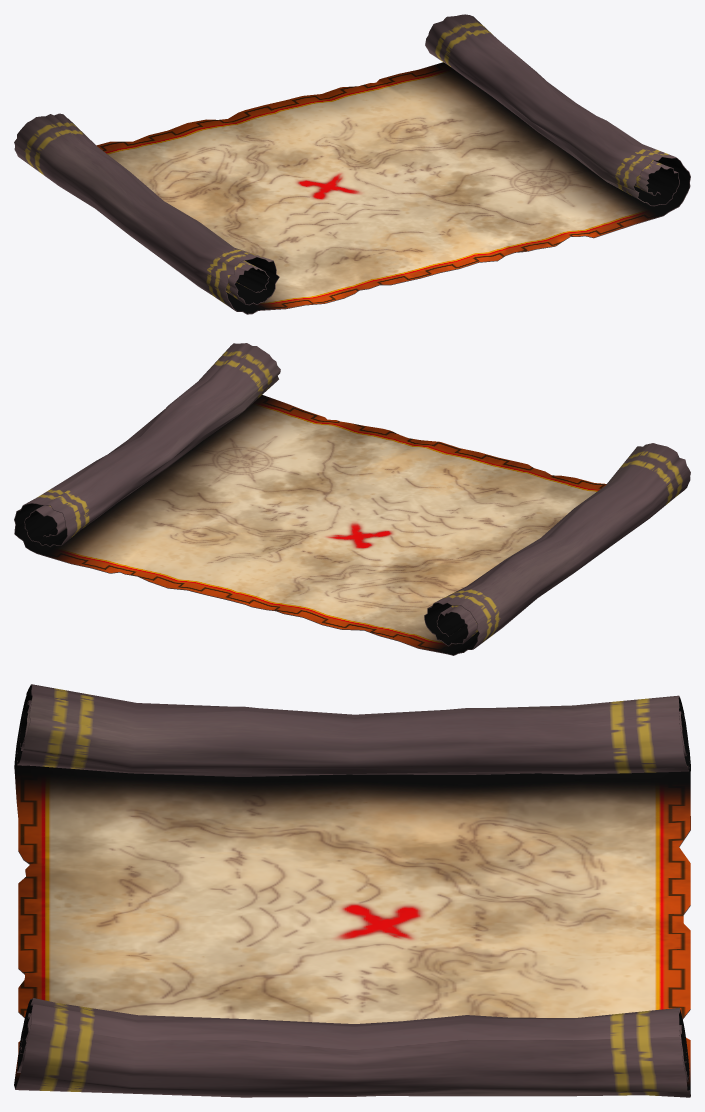
The model's file is sb_obj_indoor008_Paperwork02.fbx.
3 views of the same model, one above another, from view 1: azimuth 30°, elevation 25°; view 2: azimuth 150°, elevation 25°; view 3: azimuth 270°, elevation 25° (orthographic). The views are drawn at different scales.
Parts seen in each view (by area): view 1: map; view 2: map; view 3: map.
Boxes of the visible parts, left/top/right/bottom form: map: left=14, top=14, right=690, bottom=314; map: left=14, top=343, right=690, bottom=655; map: left=14, top=684, right=690, bottom=1097.
Size of the model in its own units: 0.3521 by 0.0441 by 0.2825.
